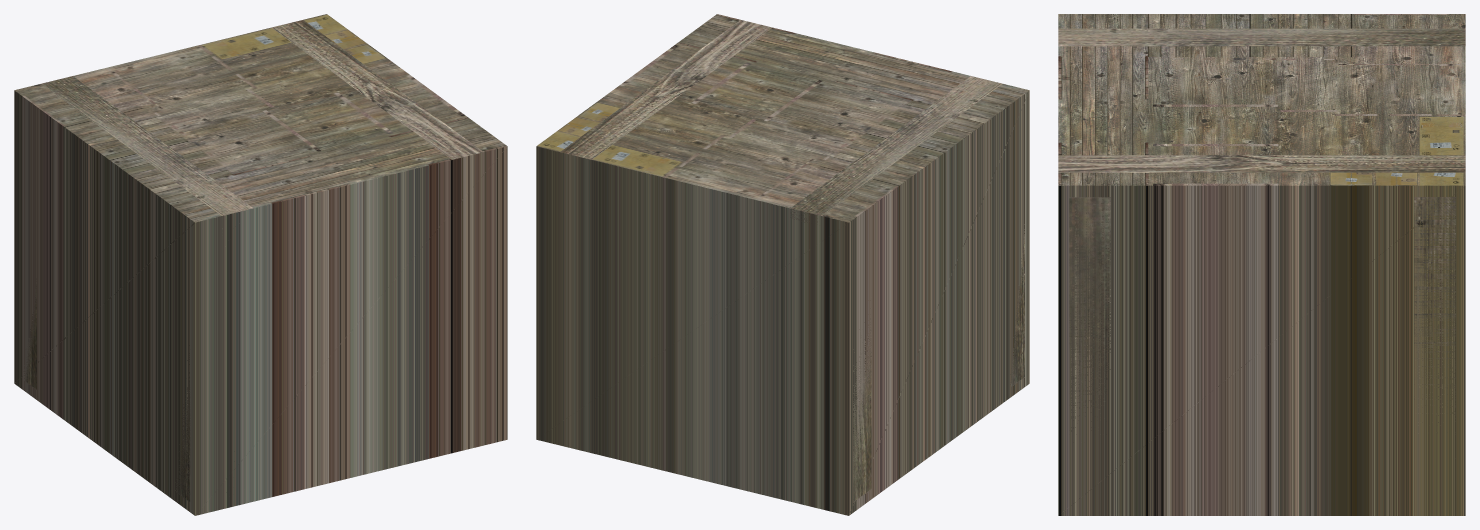
The model's file is crate.DAE.
3 renders of one model, left to right at view 1: azimuth 30°, elevation 25°; view 2: azimuth 150°, elevation 25°; view 3: azimuth 270°, elevation 25°, orthographic. The views are drawn at different scales.
Parts seen in each view (by area): view 1: colbox-01, cratesquareunbroken400; view 2: colbox-01, cratesquareunbroken400; view 3: colbox-01, cratesquareunbroken400.
Boxes of the visible parts, left/top/right/bottom form: colbox-01: left=14, top=14, right=507, bottom=515; cratesquareunbroken400: left=25, top=20, right=483, bottom=501; colbox-01: left=536, top=14, right=1029, bottom=515; cratesquareunbroken400: left=560, top=20, right=1024, bottom=502; colbox-01: left=1058, top=14, right=1465, bottom=515; cratesquareunbroken400: left=1058, top=28, right=1465, bottom=425.
Size of the model in its own units: 125 by 125 by 112.
